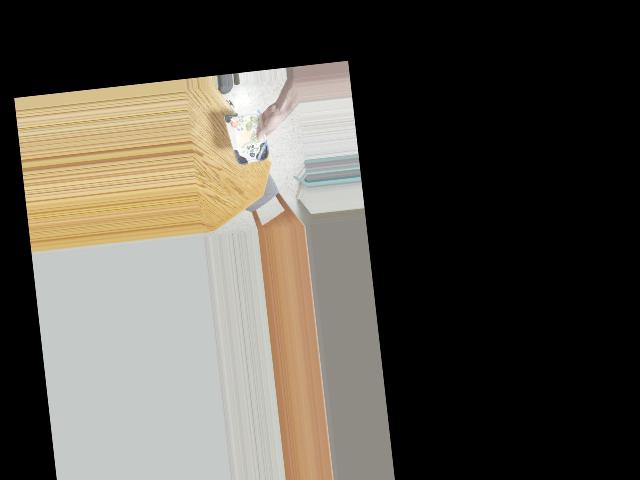cheese: (228, 113, 269, 163)
